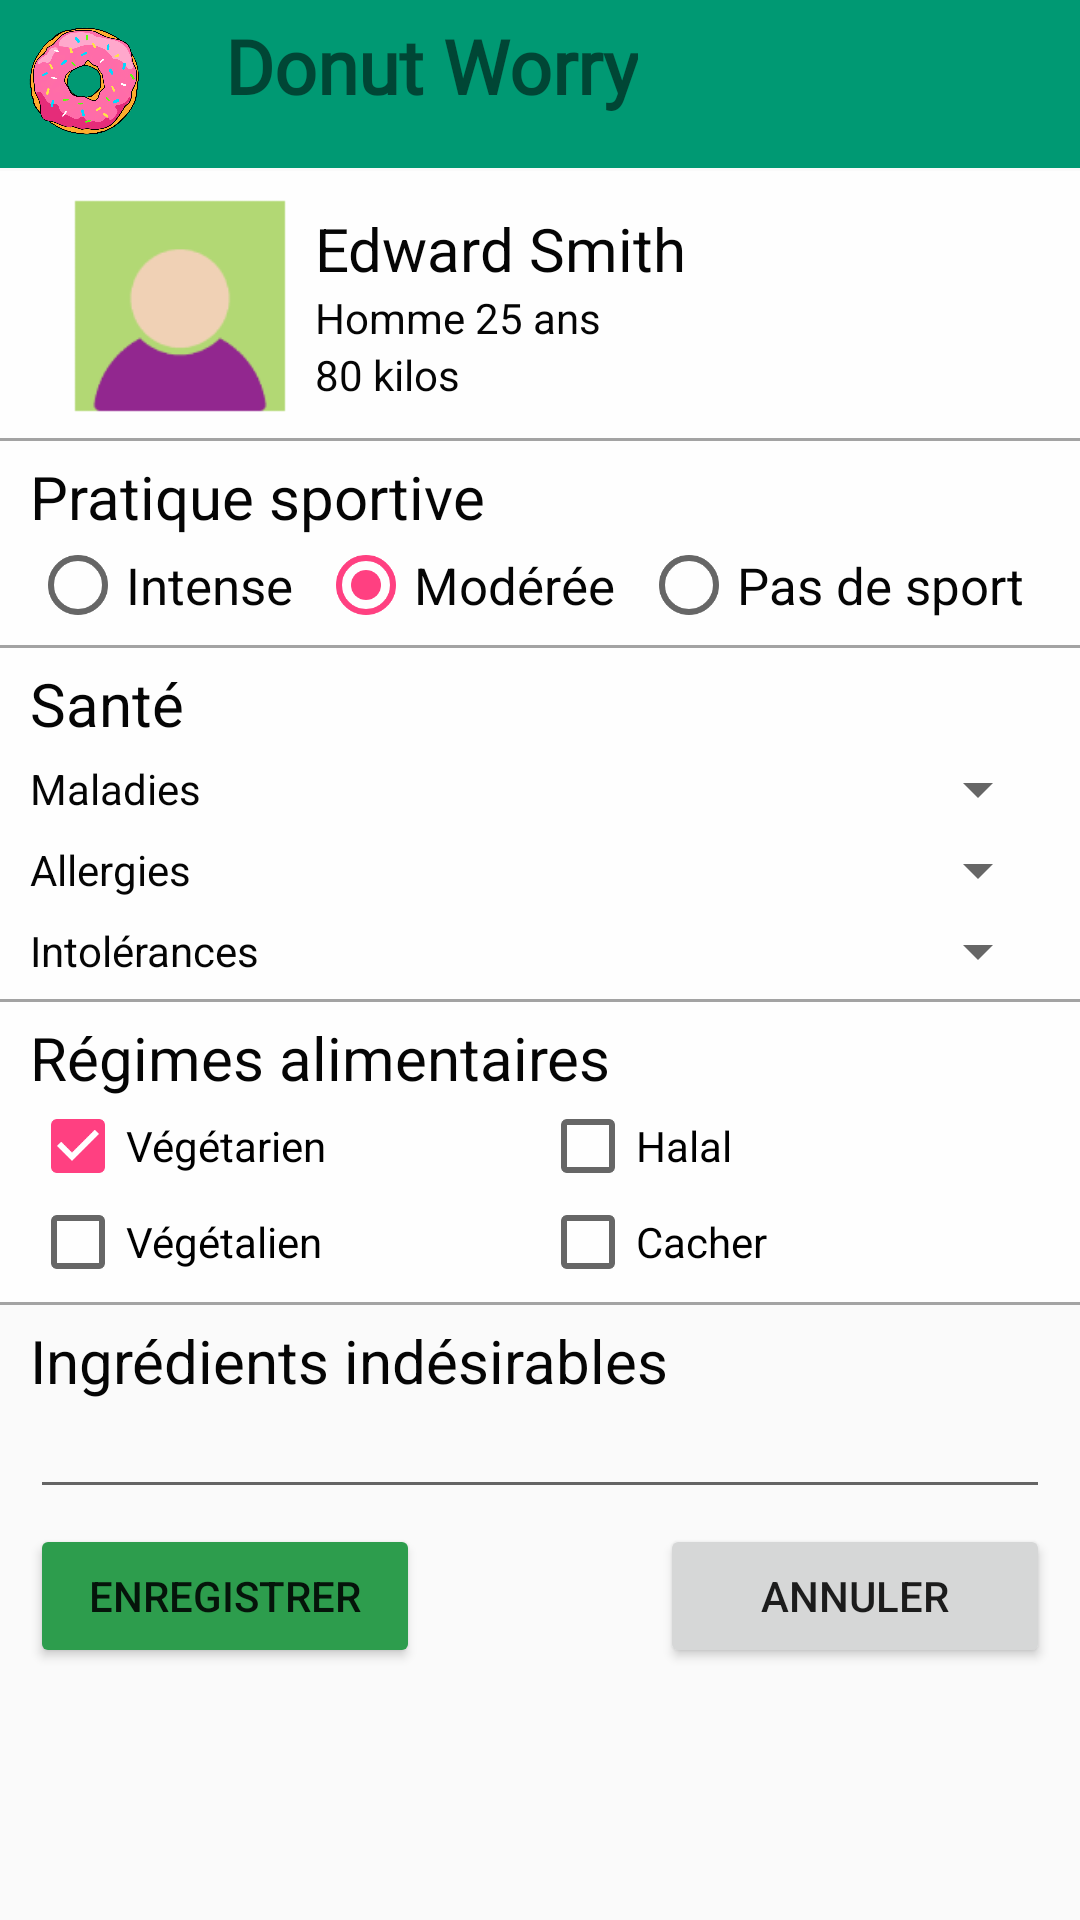

Icon click points for this 1080w x 1920h phone screenshot, format [x,y]:
profil: [180,306]
